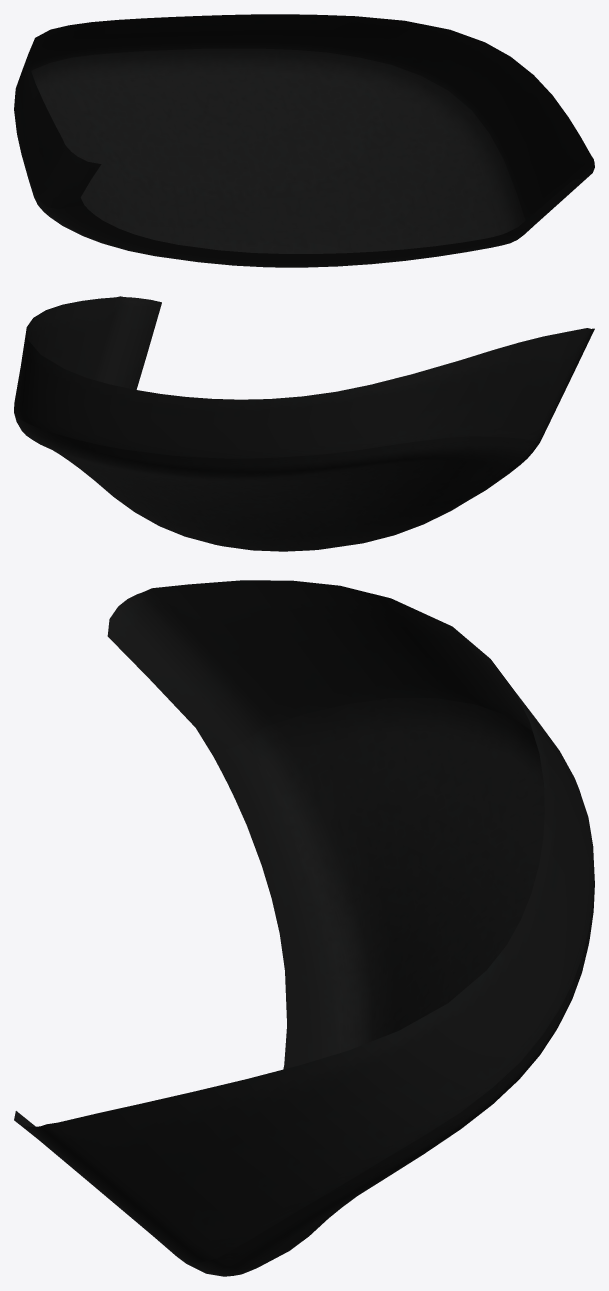
The model's file is frame_controller_left_bumper.obj.
3 renders of one model, top to bottom at view 1: azimuth 30°, elevation 25°; view 2: azimuth 150°, elevation 25°; view 3: azimuth 270°, elevation 25°, orthographic. The views are drawn at different scales.
Visible parts, largest first — view 1: frame_controller_left_bumper; view 2: frame_controller_left_bumper; view 3: frame_controller_left_bumper.
Part boxes in pixels (x1,y1,x2,y2): frame_controller_left_bumper: (14, 14, 594, 267); frame_controller_left_bumper: (14, 296, 594, 551); frame_controller_left_bumper: (14, 580, 594, 1276).
Bounding box in the file's own units: 0.035 × 0.0175 × 0.0232.
1 material, 1 textured.
